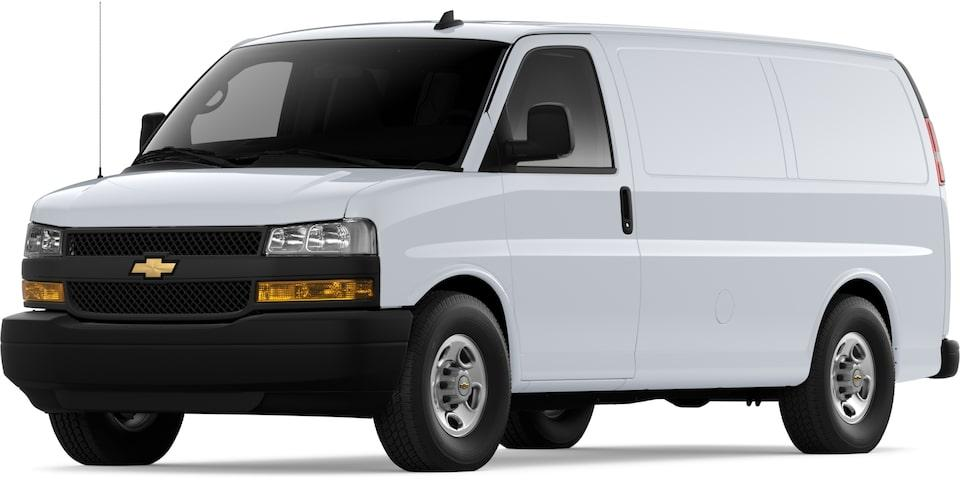van: (1, 19, 960, 473)
